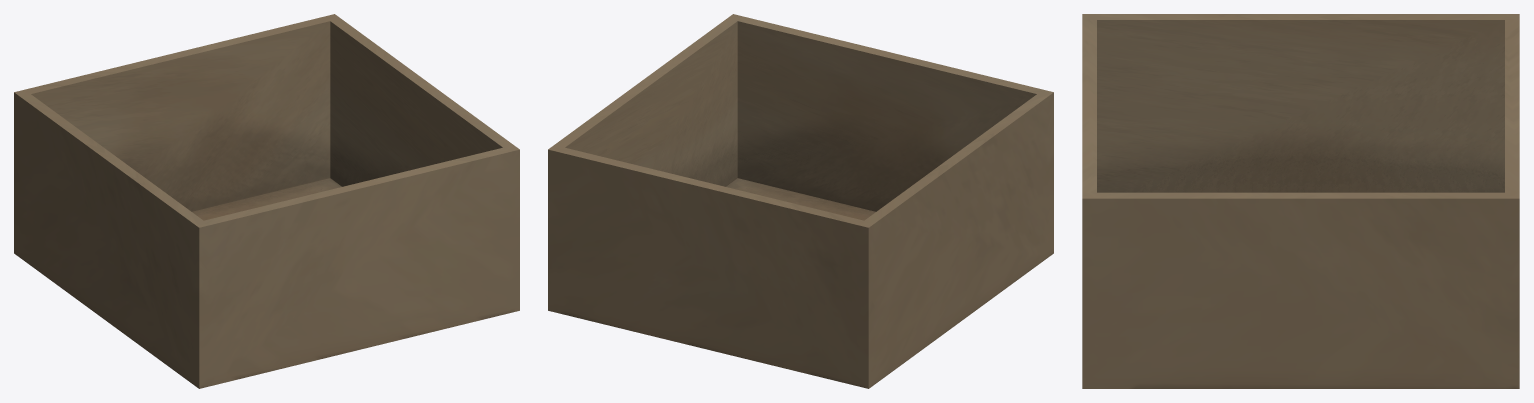
The model's file is Room.gltf.
3 renders of one model, left to right at view 1: azimuth 30°, elevation 25°; view 2: azimuth 150°, elevation 25°; view 3: azimuth 270°, elevation 25°, orthographic. The views are drawn at different scales.
Parts seen in each view (by area): view 1: Room; view 2: Room; view 3: Room.
Boxes of the visible parts, x1,y1,x2,y2 form: Room: (14, 14, 519, 388); Room: (548, 14, 1053, 388); Room: (1082, 14, 1519, 388).
Size of the model in its own units: 12.04 by 5.78 by 12.04.
Materials: 1 (1 with a texture image).
